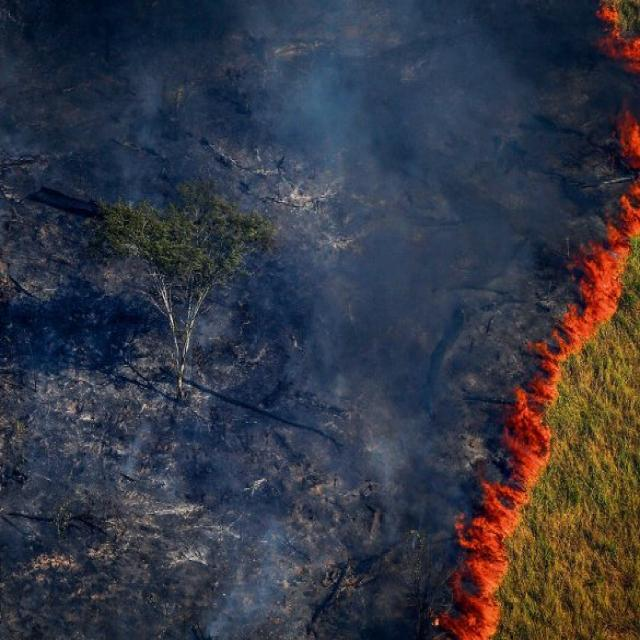Fire: (460, 104, 634, 634), (600, 12, 640, 66)
Smoke: (13, 9, 534, 632), (246, 45, 390, 209), (211, 517, 325, 639), (356, 379, 413, 562)
